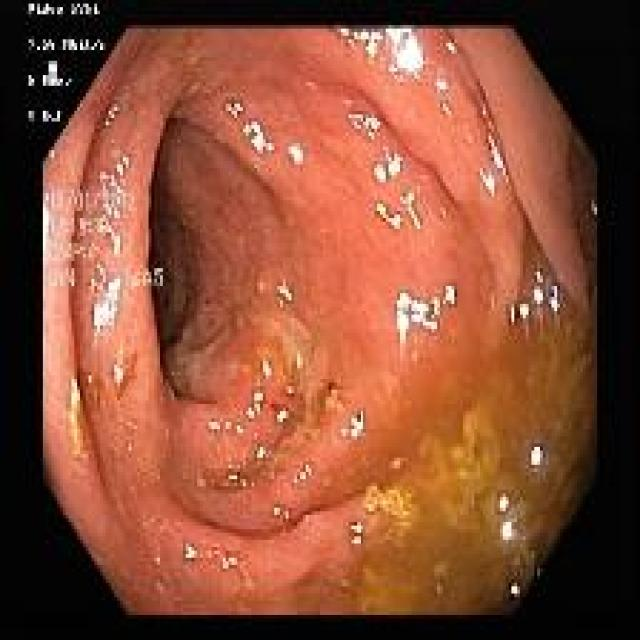ulcerative-colitis: (46, 30, 596, 613)
